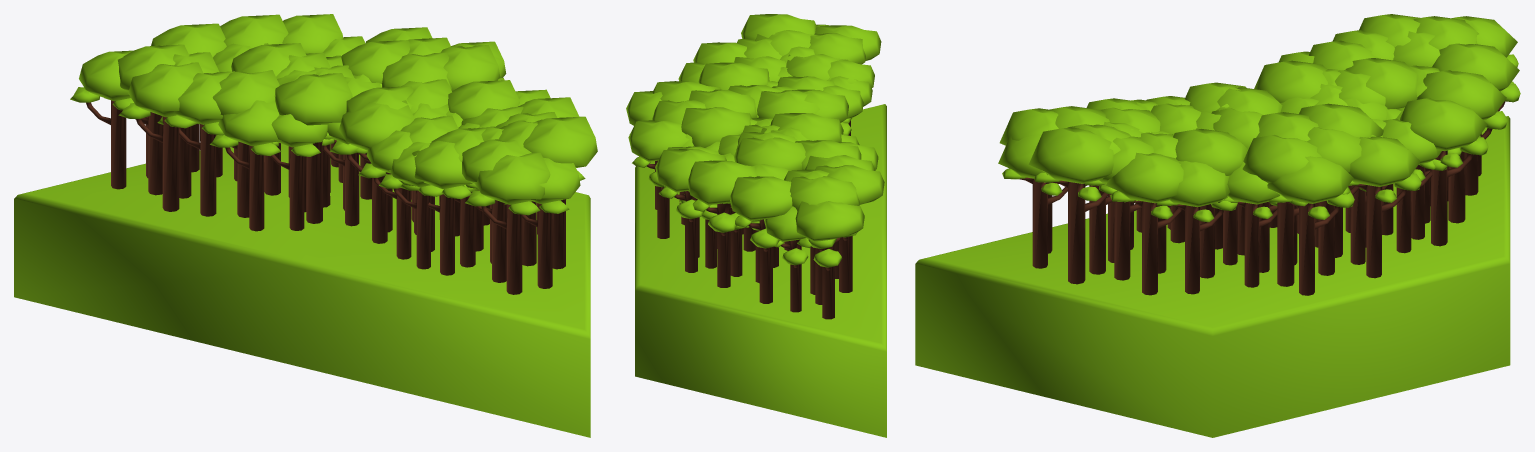
File: jungle_half.glb
The picture shows the model from 3 angles, left to right: view 1: azimuth 30°, elevation 25°; view 2: azimuth 150°, elevation 25°; view 3: azimuth 270°, elevation 25°; orthographic projection. The views are drawn at different scales.
Visible parts, largest first — view 1: Jungle_Half; view 2: Jungle_Half; view 3: Jungle_Half.
Boxes of the visible parts, x1,y1,x2,y2 form: Jungle_Half: (14,14,597,437); Jungle_Half: (626,14,886,437); Jungle_Half: (915,14,1520,437).
Bounding box in the file's own units: 0.87 × 0.4777 × 1.02.
